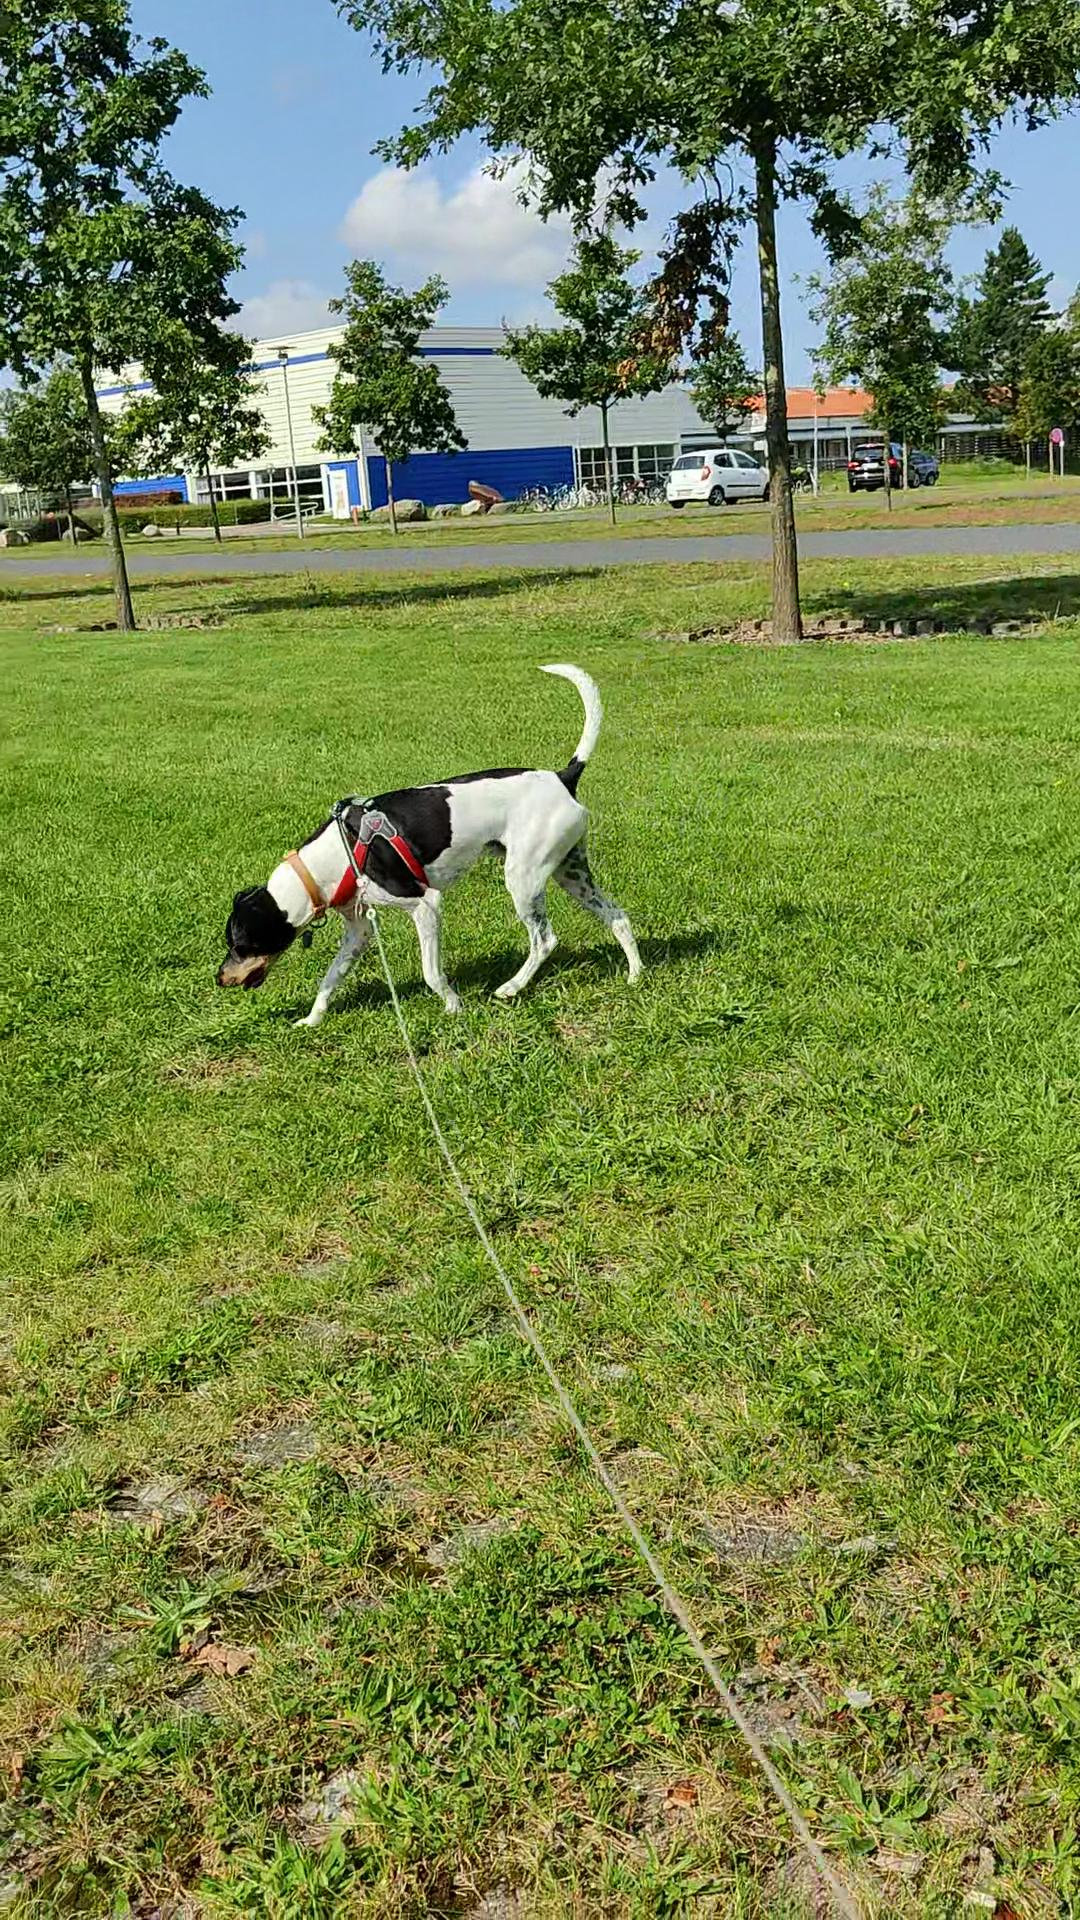Dog: (199, 651, 657, 1039)
